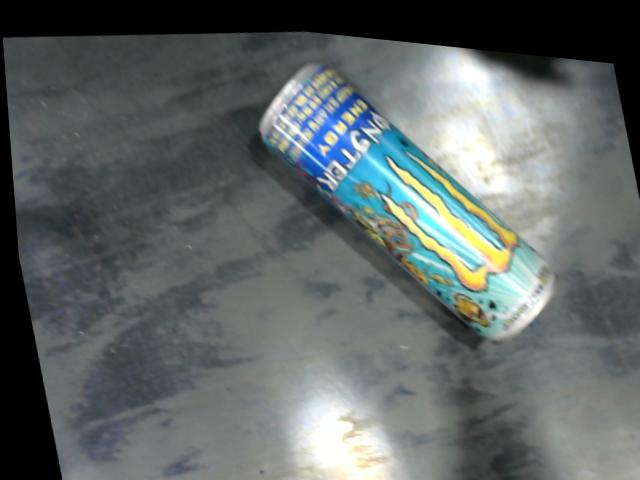can: (253, 52, 557, 335)
